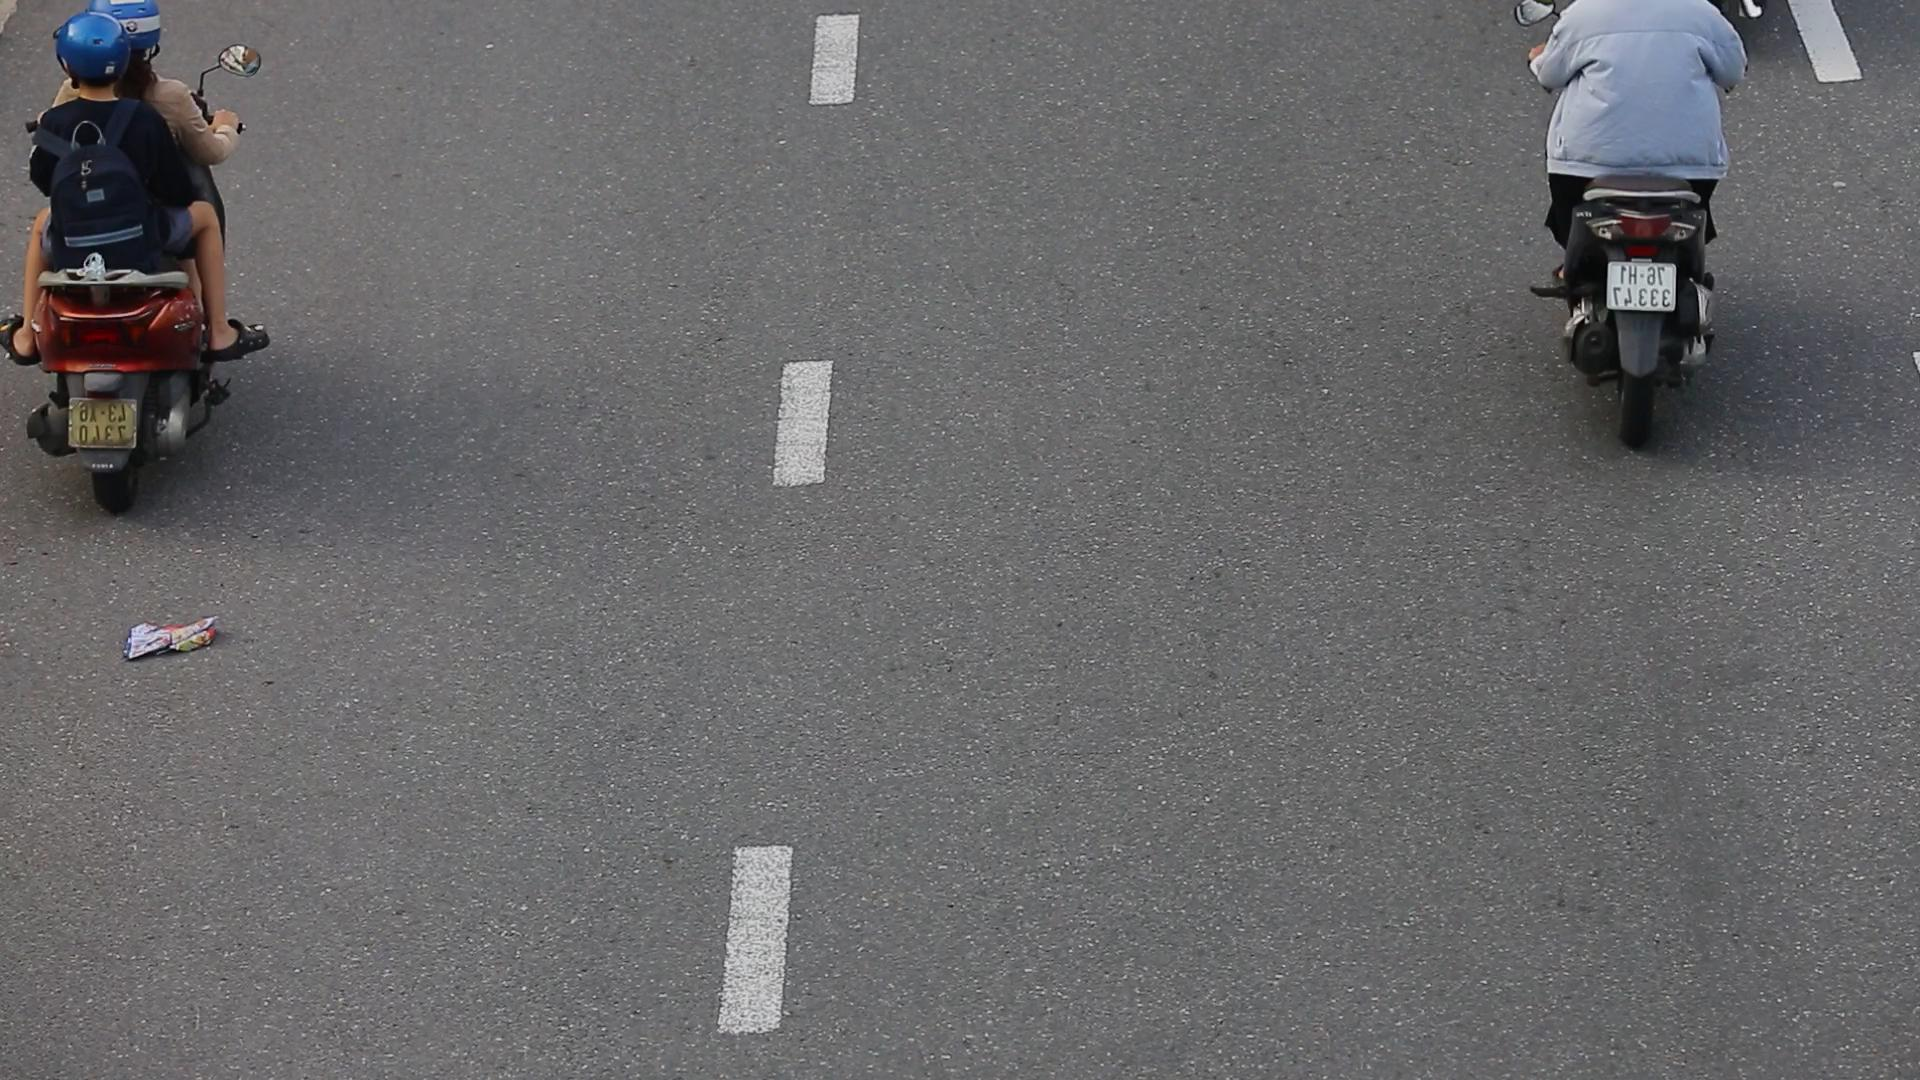motobike: (0, 0, 297, 534)
